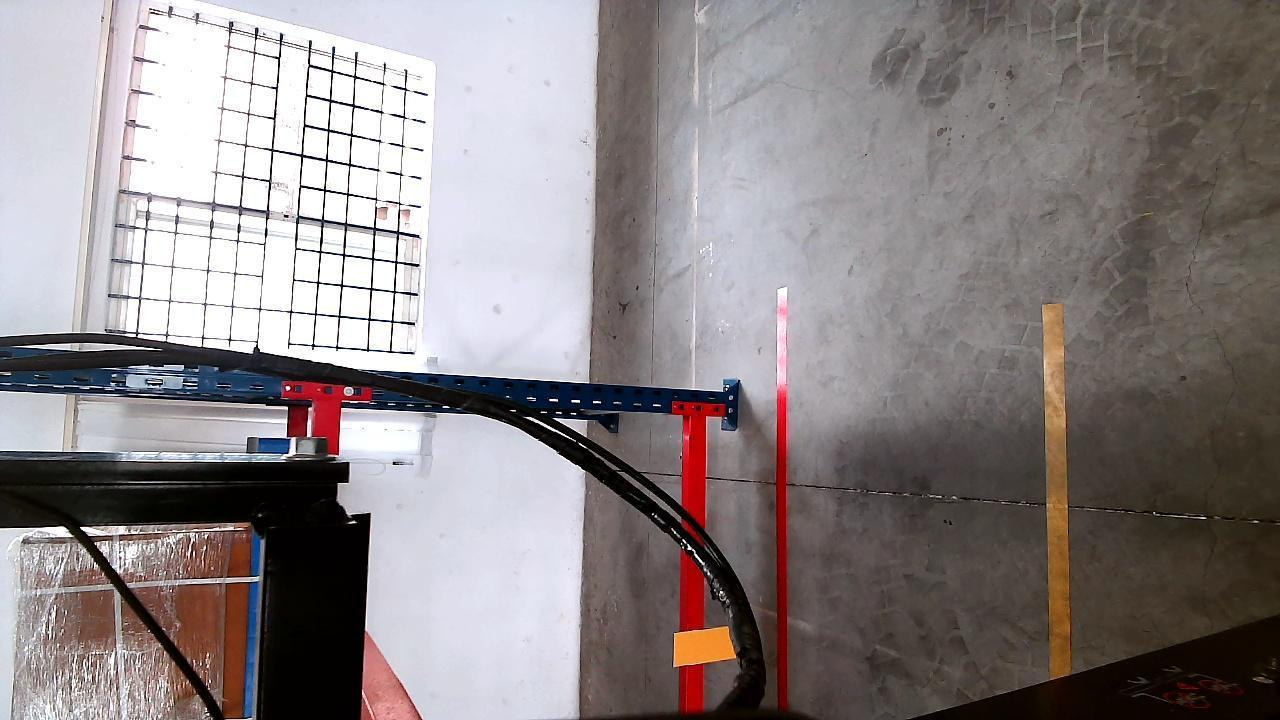h_rack: (678, 410, 710, 714)
orange_strip: (676, 627, 737, 665)
red_line: (771, 284, 794, 699)
yellow_line: (1044, 301, 1074, 676)
